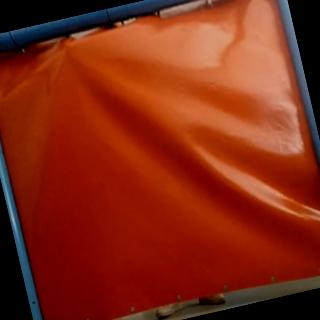Hit-hRxx: (58, 39, 78, 53)
